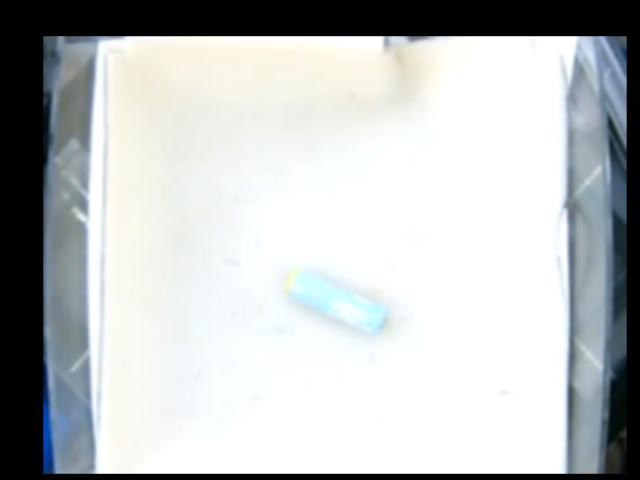Battery: (287, 269, 386, 334)
